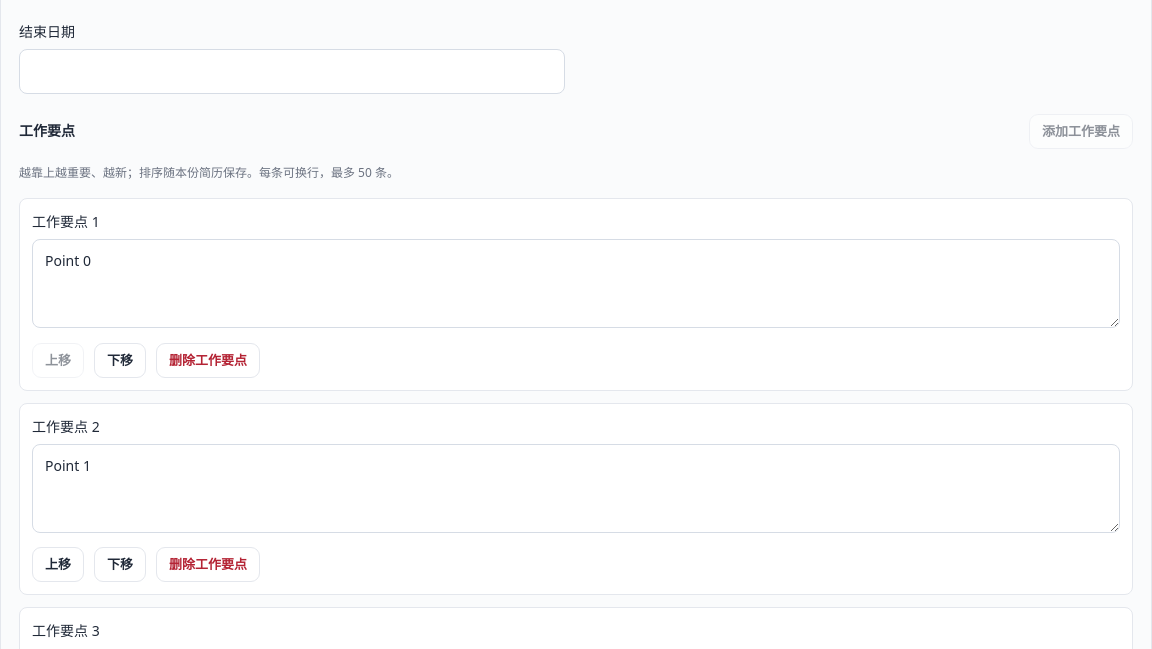
shared base and tailored editor › preserves the existing fifty-point limit and re-enables add after delete
(page scrolled)
Expected: the button "添加工作要点" is disabled, top-left (1029, 114), bottom-right (1133, 149)
Click the 1st button "删除工作要点": (208, 360) top-left (156, 343), bottom-right (260, 378)
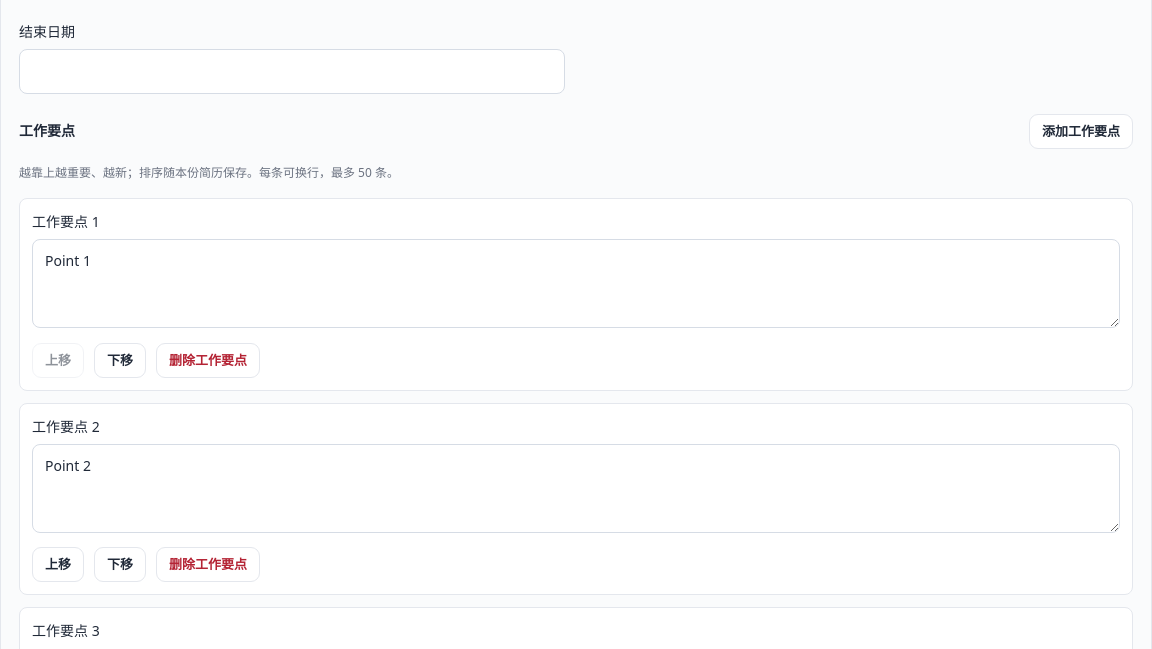
Expected: the button "添加工作要点" is enabled, top-left (1029, 114), bottom-right (1133, 149)
